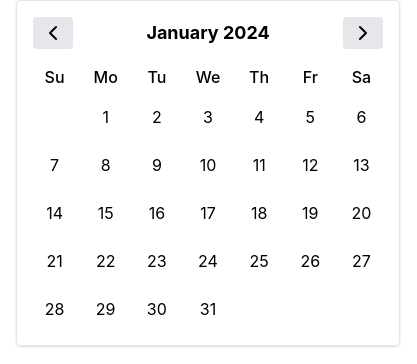
Scenario: Calendar › Navigation › navigates to next month when next button is clicked
The width and height of the screenshot is (417, 364).
Click the button named "Next Month".
click(363, 33)  # box 343,17 -> 383,49
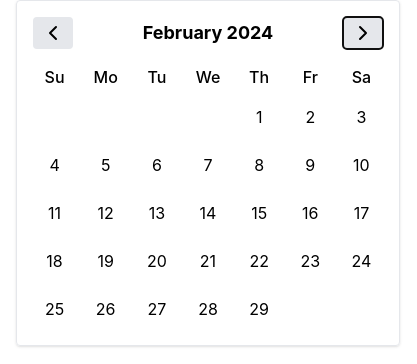
Now the heading "February 2024" is shown, box 143,19 -> 273,47
